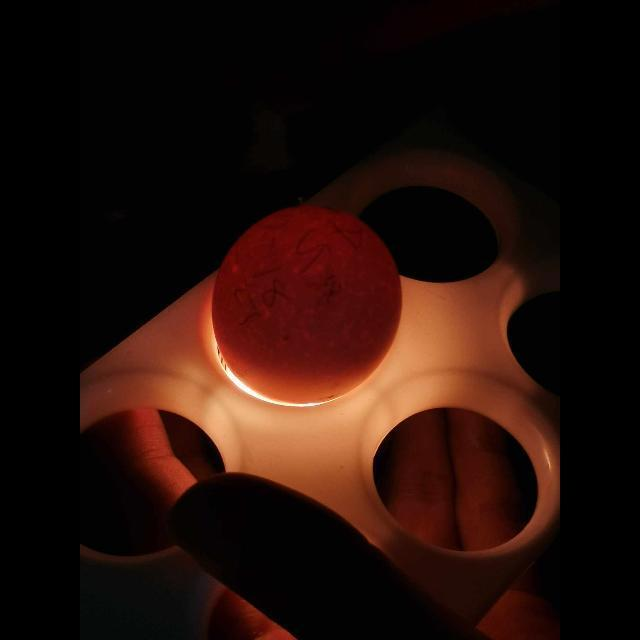A - Good: (208, 194, 408, 417)
